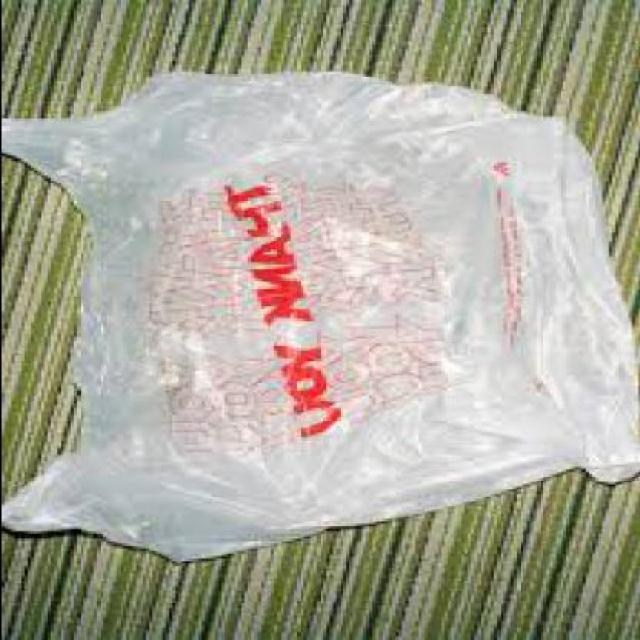PLASTIC: (1, 69, 637, 562)
